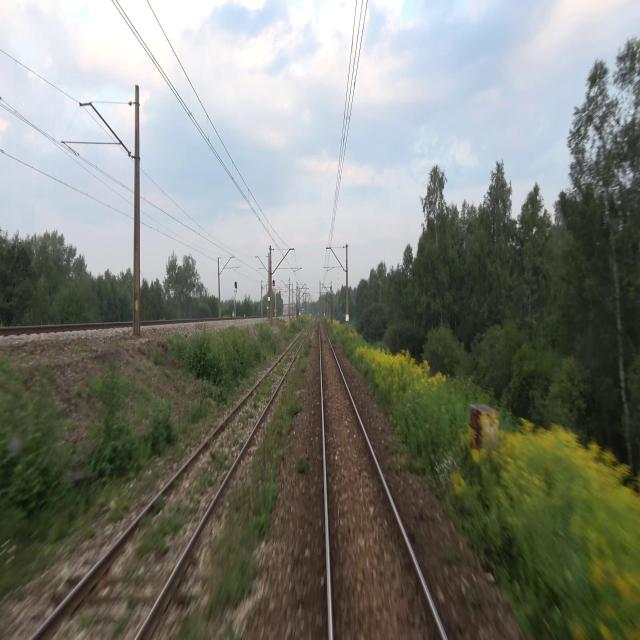rail-track: (35, 329, 307, 639), (320, 322, 443, 639)
